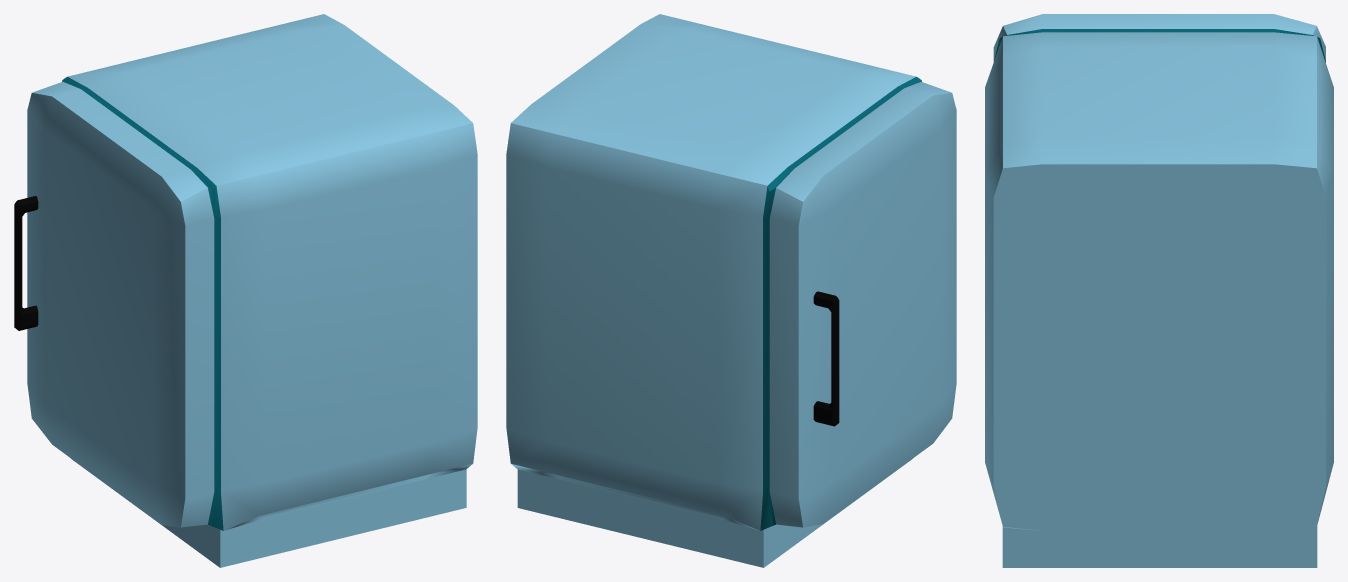
The model's file is Freezer.fbx.
3 renders of one model, left to right at view 1: azimuth 30°, elevation 25°; view 2: azimuth 150°, elevation 25°; view 3: azimuth 270°, elevation 25°, orthographic. The views are drawn at different scales.
Parts seen in each view (by area): view 1: pCube220; view 2: pCube220; view 3: pCube220.
Boxes of the visible parts, x1,y1,x2,y2 form: pCube220: (14, 14, 477, 567); pCube220: (506, 14, 956, 567); pCube220: (985, 14, 1333, 567).
Bounding box in the file's own units: 81.89 × 96.38 × 73.75.
